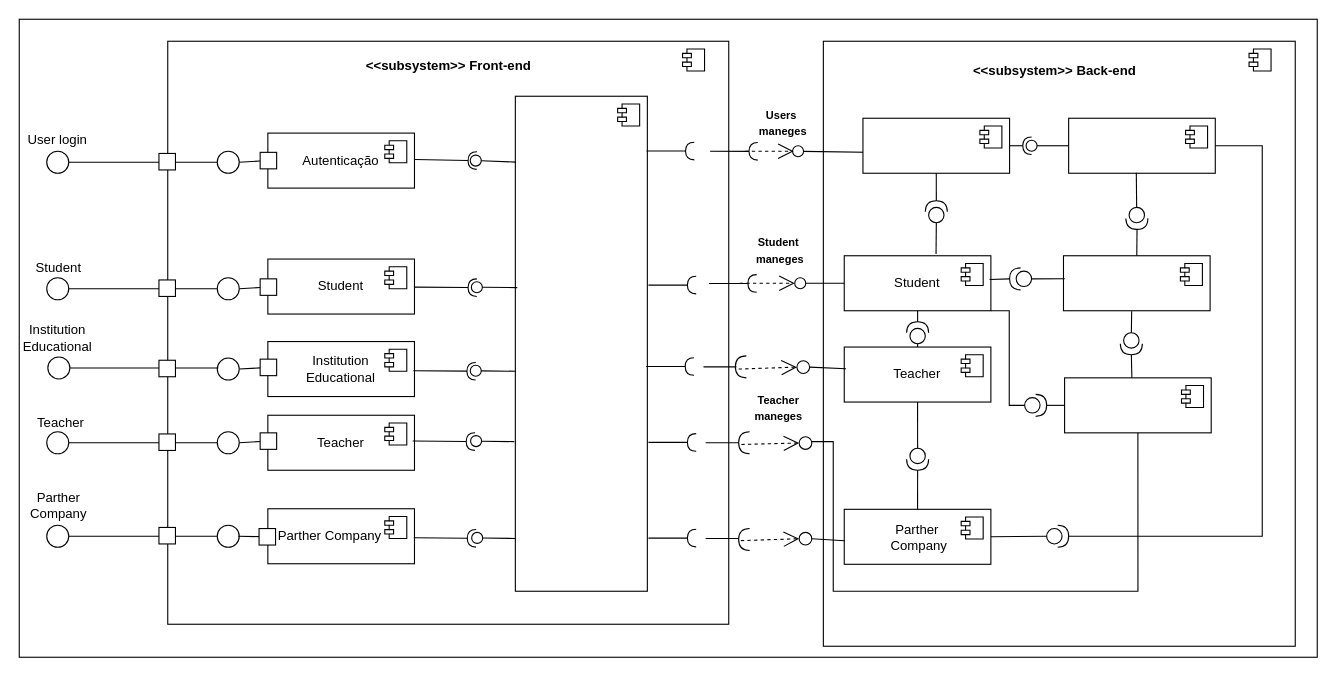
This 1337x677 diagram has some shape labels left out. Here are the shapes that lost their labels. From the top down, the centre of each, then its label:
At point (936, 145): "Users".
At point (580, 343): "Handler".
